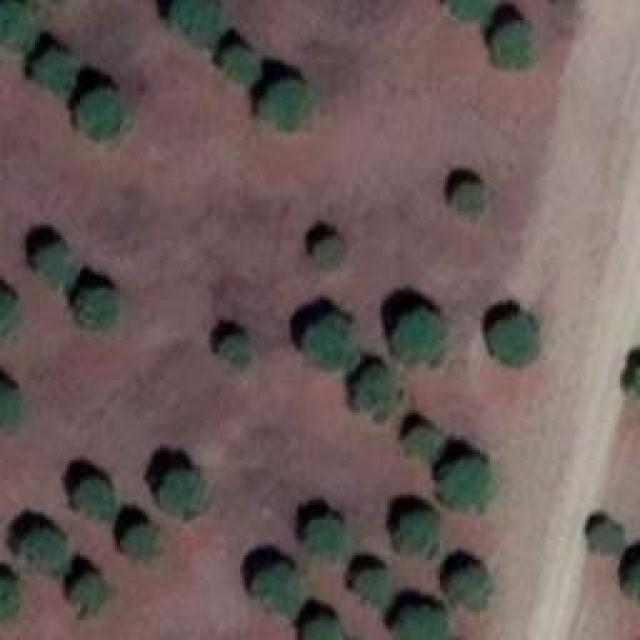Tree: (393, 308, 446, 368), (440, 455, 495, 510), (258, 78, 313, 133), (298, 315, 351, 370), (248, 563, 301, 613), (488, 317, 543, 365), (155, 470, 210, 515), (70, 87, 120, 135), (173, 0, 226, 45), (490, 18, 533, 73), (448, 563, 491, 616), (395, 508, 440, 558), (355, 365, 398, 415), (30, 45, 75, 88), (0, 0, 37, 52), (308, 515, 348, 563), (25, 530, 65, 575), (398, 605, 448, 640), (397, 425, 445, 460), (73, 478, 113, 518), (75, 285, 113, 325), (220, 48, 258, 83), (310, 235, 350, 268), (35, 238, 68, 278), (123, 520, 156, 558), (68, 572, 101, 610), (0, 380, 25, 430), (355, 570, 388, 605), (0, 572, 22, 622), (213, 338, 248, 368), (303, 615, 343, 640), (588, 522, 623, 550), (622, 558, 640, 608), (0, 288, 20, 333), (450, 0, 495, 18), (455, 185, 483, 213)
